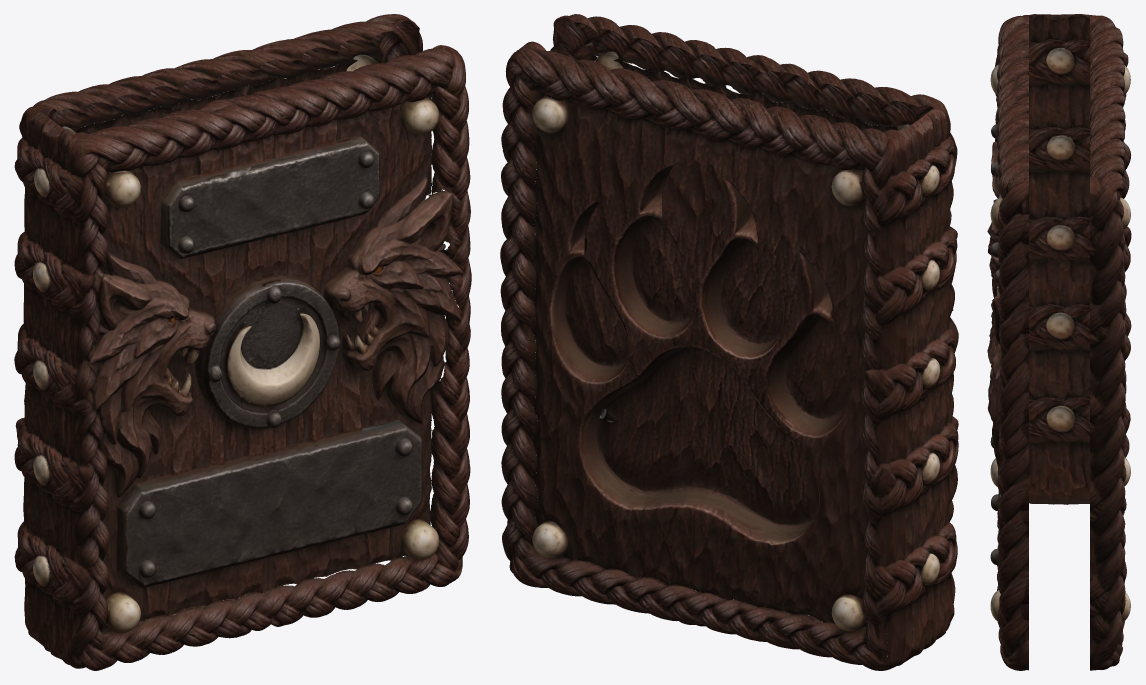
File: hunters.glb
3 renders of one model, left to right at view 1: azimuth 30°, elevation 25°; view 2: azimuth 150°, elevation 25°; view 3: azimuth 270°, elevation 25°, orthographic. The views are drawn at different scales.
Parts seen in each view (by area): view 1: F_board, F_border, S_spine, F_plateB, W_right, W_left, F_plateT, B_border, F_ring, F_moon, B_board; view 2: B_board, B_border, S_spine, F_border, F_board; view 3: S_spine, B_border, F_border, W_right, F_board, W_left, B_board, F_plateT, F_plateB.
Part boxes in pixels (x1=…): F_board: x1=101, y1=94, x2=439, y2=633; F_border: x1=73, y1=45, x2=471, y2=670; S_spine: x1=14, y1=107, x2=93, y2=668; F_plateB: x1=116, y1=420, x2=422, y2=588; W_right: x1=324, y1=176, x2=463, y2=423; W_left: x1=89, y1=252, x2=216, y2=497; F_plateT: x1=160, y1=136, x2=380, y2=258; B_border: x1=19, y1=14, x2=422, y2=583; F_ring: x1=196, y1=276, x2=340, y2=428; F_moon: x1=225, y1=313, x2=320, y2=406; B_board: x1=63, y1=54, x2=383, y2=582; B_board: x1=531, y1=90, x2=869, y2=631; B_border: x1=500, y1=41, x2=900, y2=670; S_spine: x1=880, y1=105, x2=958, y2=667; F_border: x1=550, y1=14, x2=950, y2=226; F_board: x1=589, y1=52, x2=908, y2=558; S_spine: x1=996, y1=14, x2=1114, y2=504; B_border: x1=1090, y1=15, x2=1131, y2=670; F_border: x1=992, y1=15, x2=1028, y2=670; W_right: x1=987, y1=295, x2=1002, y2=468; F_board: x1=990, y1=64, x2=1002, y2=622; W_left: x1=987, y1=142, x2=1000, y2=297; B_board: x1=1120, y1=65, x2=1130, y2=621; F_plateT: x1=990, y1=123, x2=1001, y2=263; F_plateB: x1=990, y1=436, x2=1001, y2=573.
Size of the model in its own units: 0.7788 by 0.978 by 0.2589.
1 material, 1 textured.
